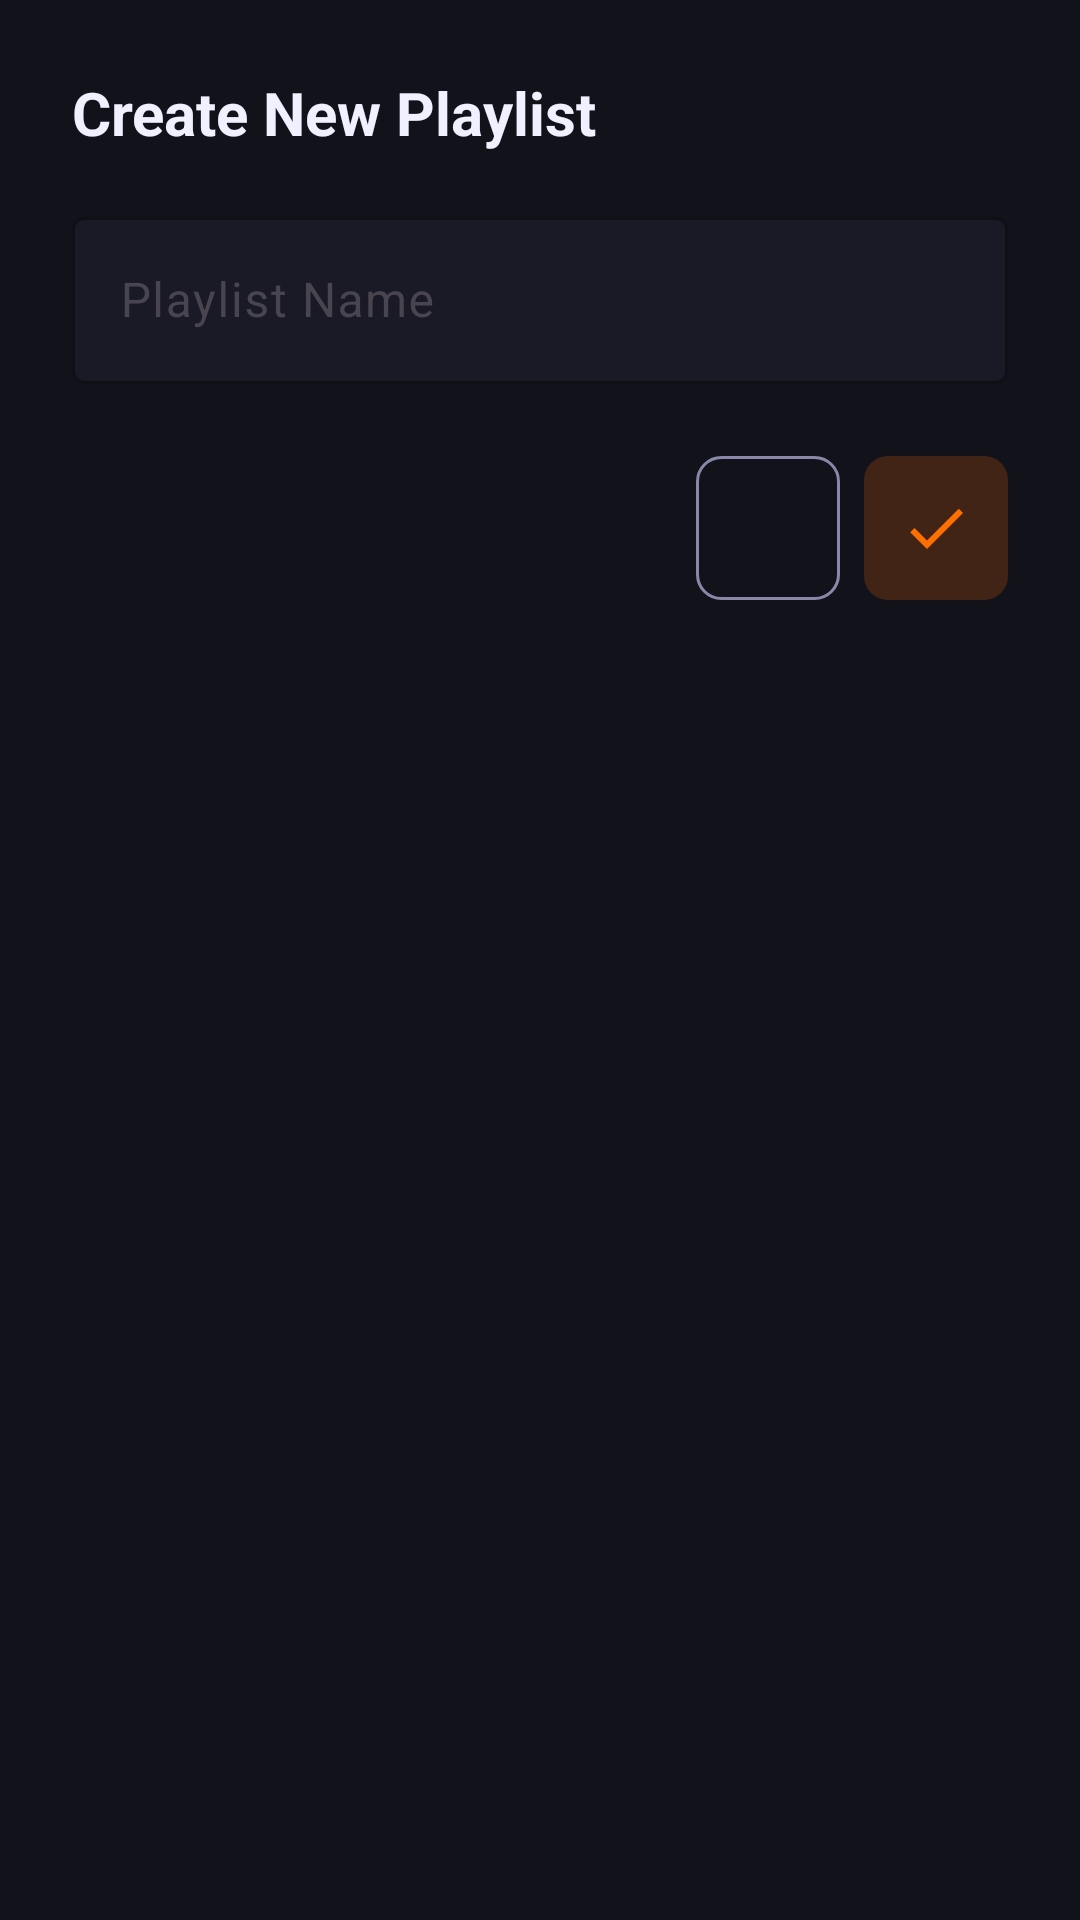

Icons on this 1080x1920 Android screen, each with the point to tap as (x=x, y=y):
Create: (x=936, y=528)
